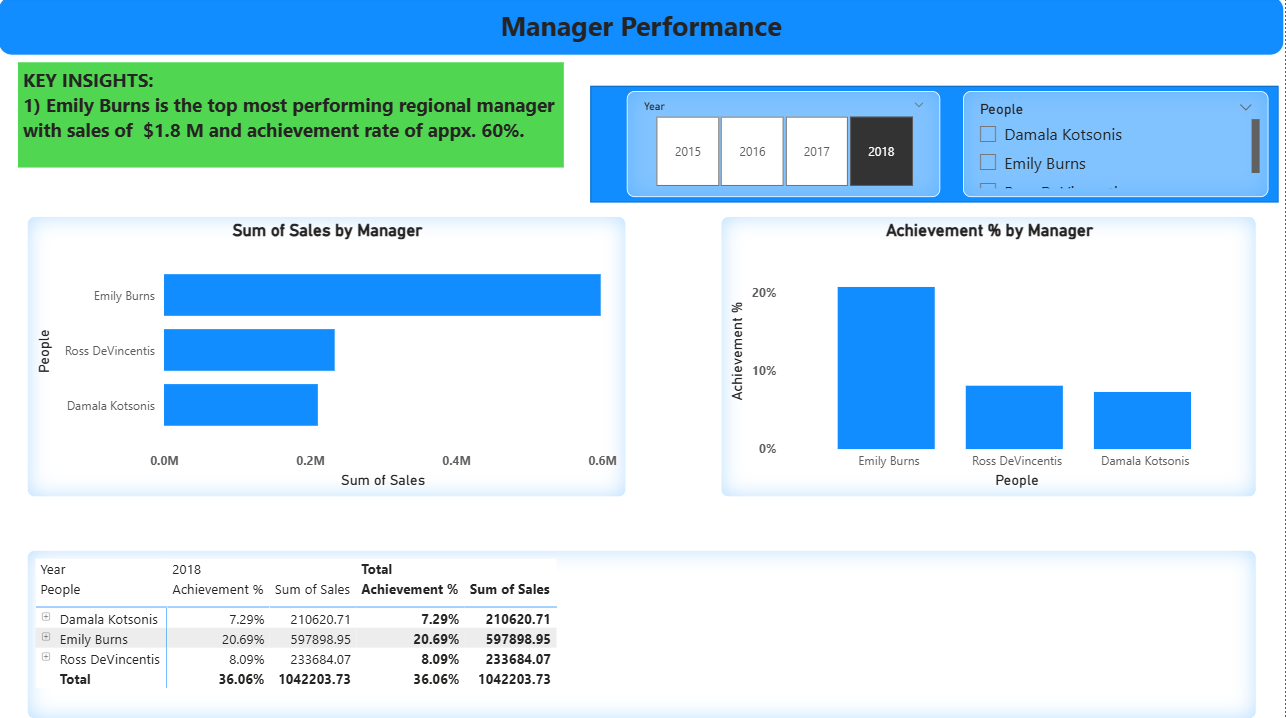

Layout of this report page (visuals, bound fields, positions):
{"tool":"powerbi","page":{"name":"Page 3","canvas":[1280,720],"ordinal":2},"visuals":[{"type":"shape","box":[585.2,84.2,695.1,126.3],"z":0},{"type":"clusteredBarChart","title":"Sum of Sales by Manager","fields":{"Category":["People.People"],"Y":["Sum(fact_orders.Sales)"]},"box":[28.8,219.6,596.9,279.9],"z":1000},{"type":"clusteredColumnChart","title":"Achievement % by Manager","fields":{"Category":["People.People"],"Y":["_Measures.Achievement %"]},"box":[719,219.6,533.8,279.9],"z":2000},{"type":"pivotTable","fields":{"Rows":["People.People","fact_orders.Category","fact_orders.Sub-Category"],"Columns":["fact_orders.Year"],"Values":["_Measures.Achievement %","Sum(fact_orders.Sales)"]},"box":[28.8,551.6,1224,168.8],"z":3000},{"type":"actionButton","box":[0,0,100,40],"z":4000},{"type":"textbox","box":[0,0,1280.3,59],"z":5000},{"type":"slicer","fields":{"Values":["fact_orders.Year"]},"box":[625.9,95,312.3,105.9],"z":6000},{"type":"slicer","fields":{"Values":["People.People"]},"box":[959.9,95,304.1,105.9],"z":7000},{"type":"textbox","box":[20.4,66.5,543.1,104.5],"z":8000}]}

Visuals, with their boxes in screenshot pixels (x1, y1, x2, y2), scaled from the page's 1280x720 canvas onto the 1286x718 screenshot:
shape: pyautogui.locateOnScreen(588, 84, 1285, 210)
"Sum of Sales by Manager" clusteredBarChart: pyautogui.locateOnScreen(29, 219, 629, 498)
"Achievement % by Manager" clusteredColumnChart: pyautogui.locateOnScreen(722, 219, 1259, 498)
pivotTable - People.People x fact_orders.Category: pyautogui.locateOnScreen(29, 550, 1259, 717)
actionButton: pyautogui.locateOnScreen(0, 0, 100, 40)
textbox: pyautogui.locateOnScreen(0, 0, 1285, 59)
slicer - fact_orders.Year: pyautogui.locateOnScreen(629, 95, 943, 200)
slicer - People.People: pyautogui.locateOnScreen(964, 95, 1270, 200)
textbox: pyautogui.locateOnScreen(20, 66, 566, 171)
